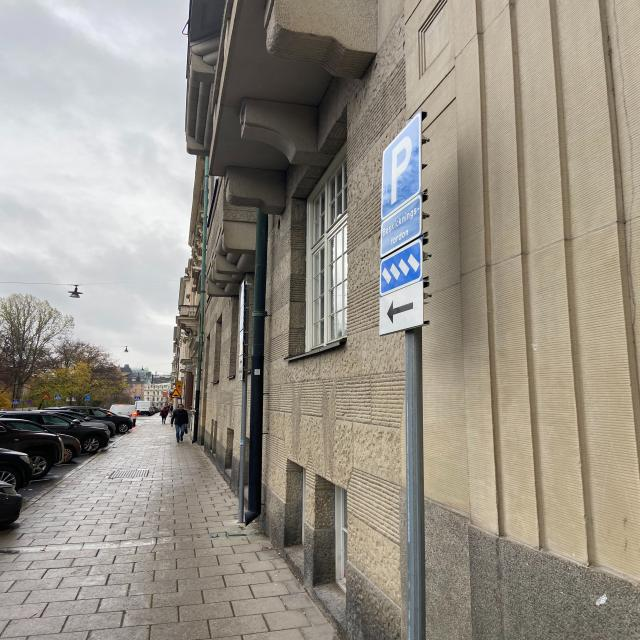psign: (378, 112, 423, 216)
